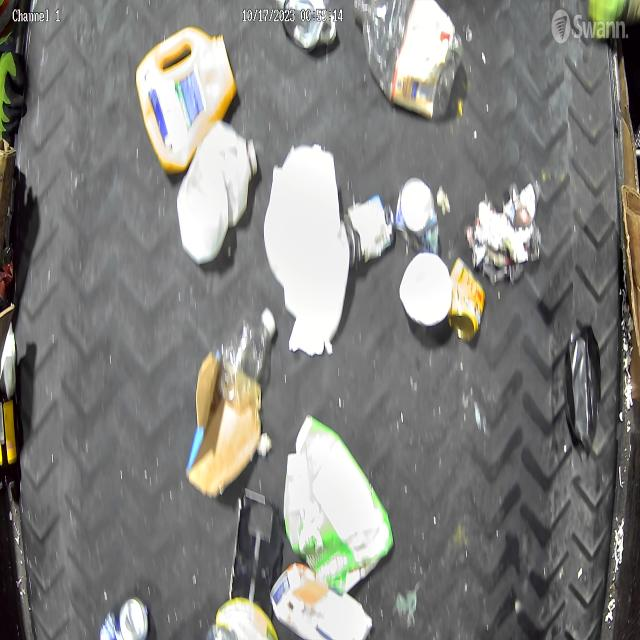can: (396, 178, 441, 258), (450, 258, 486, 342), (111, 591, 150, 640)
milk_jug: (178, 122, 257, 269)
non_white_jug: (280, 414, 398, 596), (135, 24, 238, 174), (272, 557, 374, 640)
plastic_bottle: (352, 0, 464, 119), (209, 308, 277, 400)
